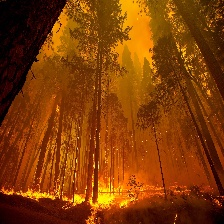fire: (1, 178, 222, 224)
